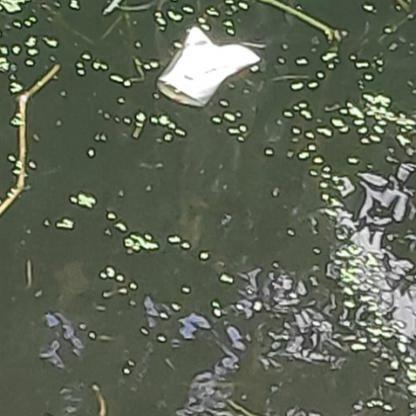Trash: (155, 22, 262, 114)
